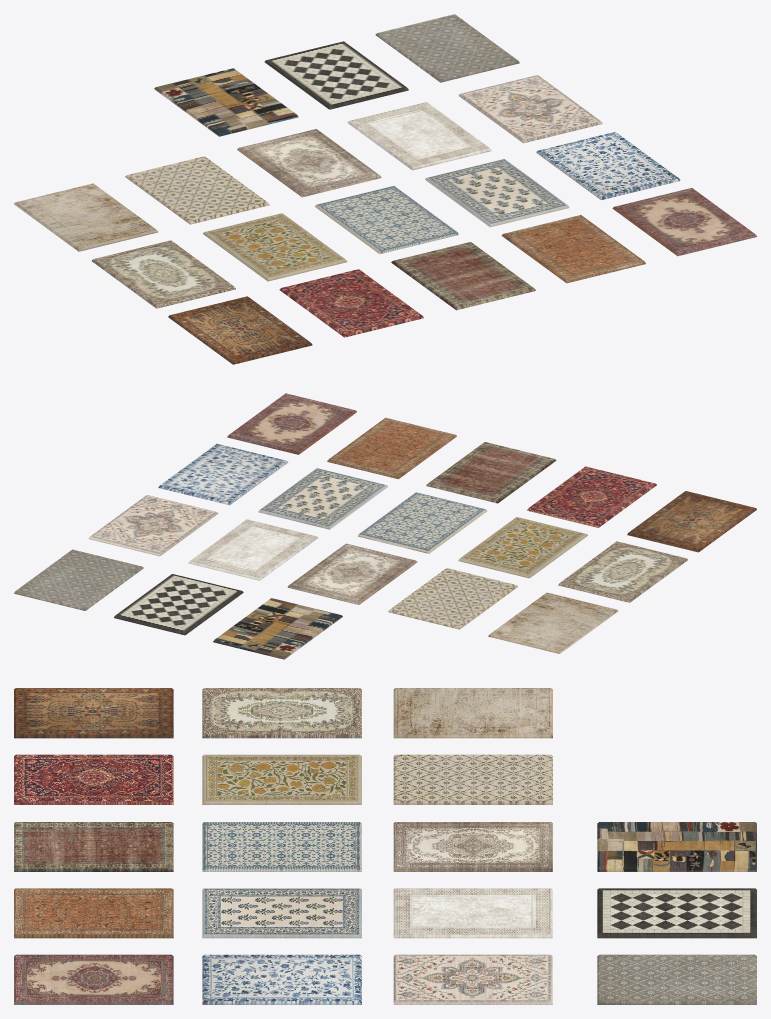
Rendered from rugs.glb.
3 renders of one model, top to bottom at view 1: azimuth 30°, elevation 25°; view 2: azimuth 150°, elevation 25°; view 3: azimuth 270°, elevation 25°, orthographic. The views are drawn at different scales.
Visible parts, largest first — view 1: Vintage Rugs_001_Vintage Rugs_0; view 2: Vintage Rugs_001_Vintage Rugs_0; view 3: Vintage Rugs_001_Vintage Rugs_0.
Part boxes in pixels (box(x1,y1,x2,y2)): Vintage Rugs_001_Vintage Rugs_0: box(14, 14, 756, 364); Vintage Rugs_001_Vintage Rugs_0: box(14, 393, 756, 659); Vintage Rugs_001_Vintage Rugs_0: box(14, 688, 756, 1004).
Size of the model in its own units: 13.19 by 0.0597 by 13.17.
Materials: 1 (1 with a texture image).
